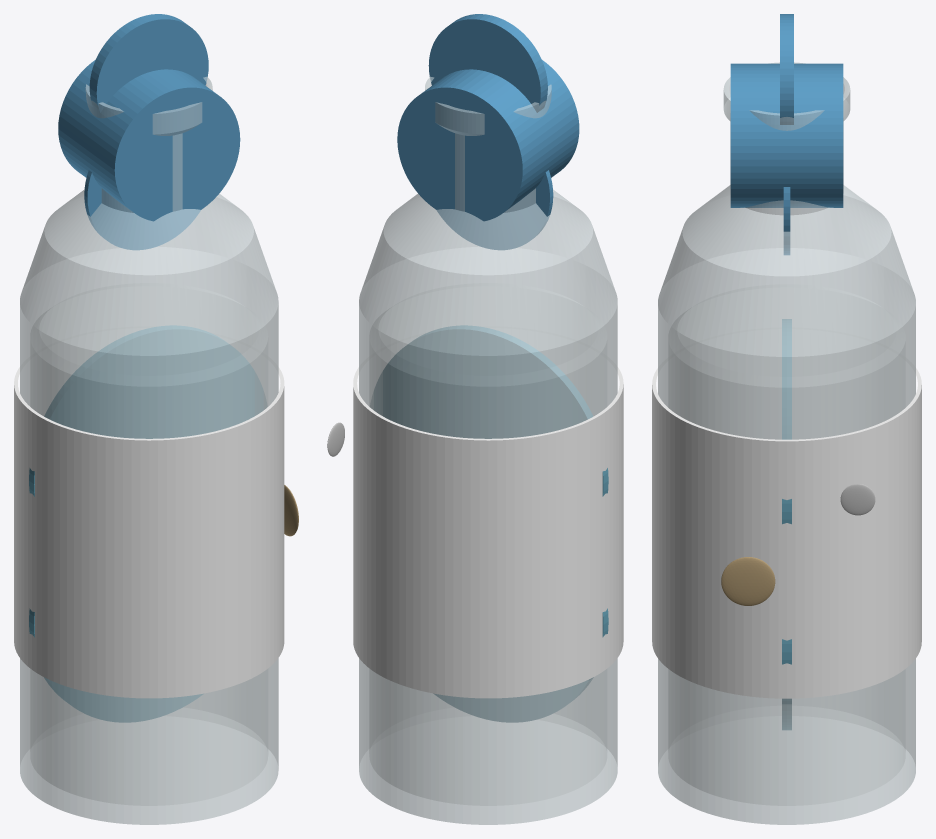
The model's file is botella_etiqueta.glb.
The picture shows the model from 3 angles, left to right: view 1: azimuth 30°, elevation 25°; view 2: azimuth 150°, elevation 25°; view 3: azimuth 270°, elevation 25°; orthographic projection.
Visible parts, largest first — view 1: etiqueta_3, etiqueta_0, etiqueta_1, etiqueta_2, etiqueta_4; view 2: etiqueta_3, etiqueta_0, etiqueta_1, etiqueta_2; view 3: etiqueta_0, etiqueta_3, etiqueta_1, etiqueta_2, etiqueta_4, etiqueta_5.
Part boxes in pixels (x1,y1,x2,y2): etiqueta_3: (14,325,284,722); etiqueta_0: (20,77,278,824); etiqueta_1: (30,283,267,805); etiqueta_2: (58,14,240,250); etiqueta_4: (284,485,298,536); etiqueta_3: (353,325,623,722); etiqueta_0: (359,76,617,824); etiqueta_1: (369,283,606,805); etiqueta_2: (397,14,579,250); etiqueta_0: (658,62,915,824); etiqueta_3: (652,319,921,729); etiqueta_1: (668,284,905,805); etiqueta_2: (730,14,843,255); etiqueta_4: (721,557,775,605); etiqueta_5: (840,484,875,515).
Size of the model in its own units: 4.23 by 12.83 by 4.18.
Materials: 6 (1 with a texture image).
